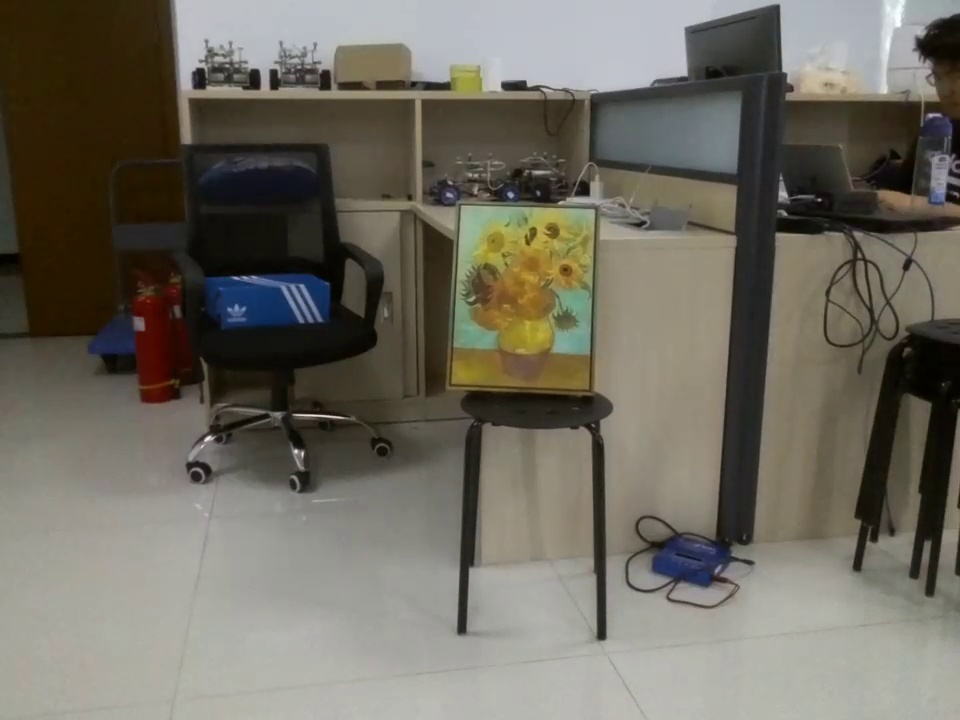painting: (444, 203, 603, 395)
